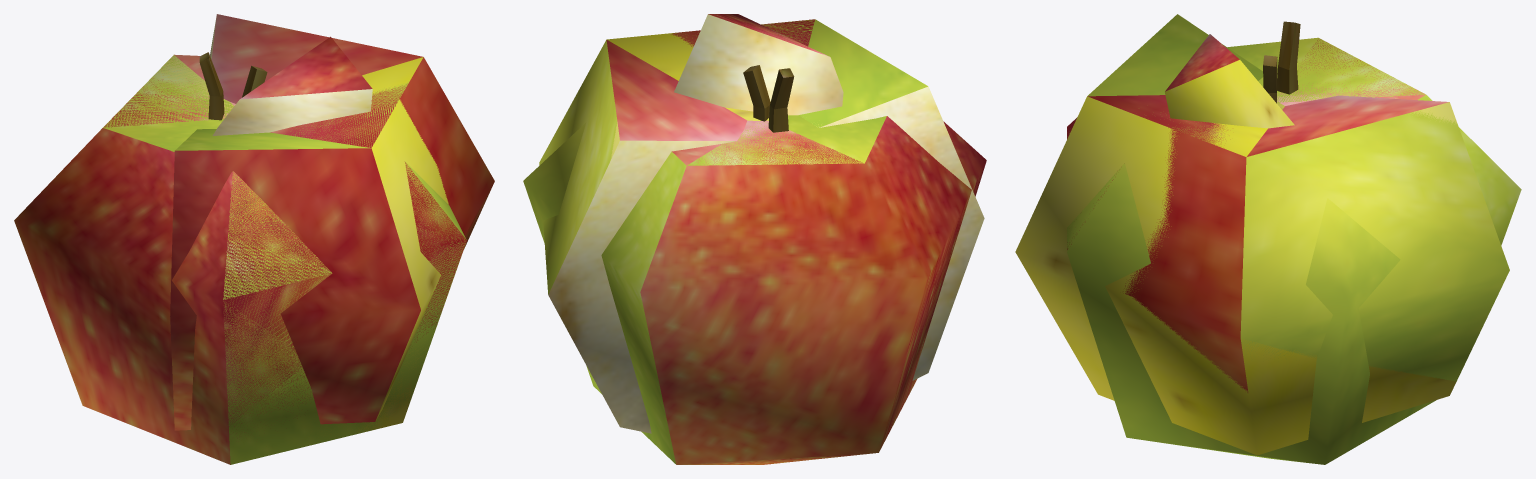
File: Apples_glb.glb
3 renders of one model, left to right at view 1: azimuth 30°, elevation 25°; view 2: azimuth 150°, elevation 25°; view 3: azimuth 270°, elevation 25°, orthographic. The views are drawn at different scales.
Parts seen in each view (by area): view 1: Apple_Red, Apple_Red_Cut, Apple_Greem, Apple_Yellow_Cut, Apple_Red_Slice, Apple_Yellow, Apple_Green_Cut, Apple_Yellow_Slice; view 2: Apple_Red, Apple_Red_Cut, Apple_Greem, Apple_Green_Cut, Apple_Green_Slice, Apple_Yellow_Cut, Apple_Red_Slice; view 3: Apple_Green_Cut, Apple_Yellow_Cut, Apple_Greem, Apple_Red_Cut, Apple_Yellow_Slice, Apple_Red, Apple_Red_Slice.
Boxes of the visible parts, bbox=[...] form: Apple_Red: bbox=[14, 54, 466, 464]; Apple_Red_Cut: bbox=[170, 14, 494, 430]; Apple_Greem: bbox=[103, 56, 466, 464]; Apple_Yellow_Cut: bbox=[208, 53, 464, 419]; Apple_Red_Slice: bbox=[218, 36, 372, 127]; Apple_Yellow: bbox=[146, 55, 449, 451]; Apple_Green_Cut: bbox=[175, 73, 408, 150]; Apple_Yellow_Slice: bbox=[212, 89, 371, 135]; Apple_Red: bbox=[640, 65, 986, 464]; Apple_Red_Cut: bbox=[548, 19, 814, 433]; Apple_Greem: bbox=[523, 65, 886, 463]; Apple_Green_Cut: bbox=[539, 19, 927, 362]; Apple_Green_Slice: bbox=[674, 14, 843, 115]; Apple_Yellow_Cut: bbox=[607, 33, 984, 380]; Apple_Red_Slice: bbox=[708, 14, 829, 56]; Apple_Green_Cut: bbox=[1087, 14, 1509, 381]; Apple_Yellow_Cut: bbox=[1015, 21, 1457, 455]; Apple_Greem: bbox=[1067, 37, 1521, 464]; Apple_Red_Cut: bbox=[1088, 32, 1448, 392]; Apple_Yellow_Slice: bbox=[1165, 60, 1294, 128]; Apple_Red: bbox=[1067, 39, 1425, 249]; Apple_Red_Slice: bbox=[1165, 34, 1239, 91].
Size of the model in its own units: 0.5372 by 0.4936 by 0.522.
Materials: 1 (1 with a texture image).
